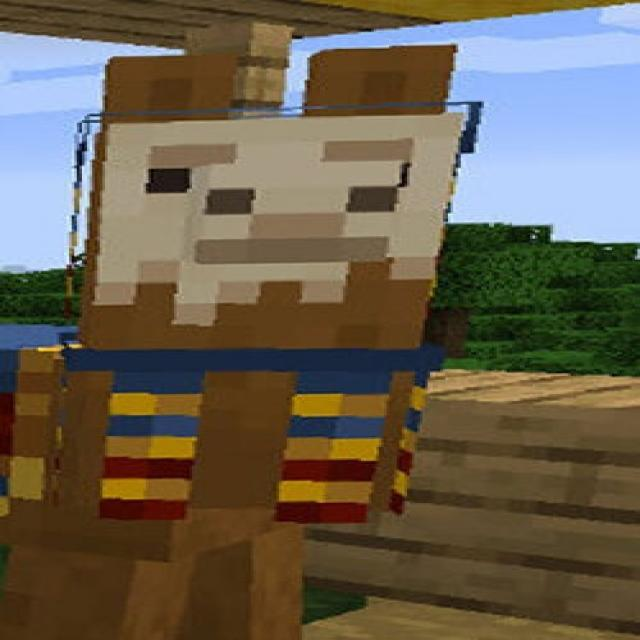Trader Lama: (2, 42, 492, 639)
